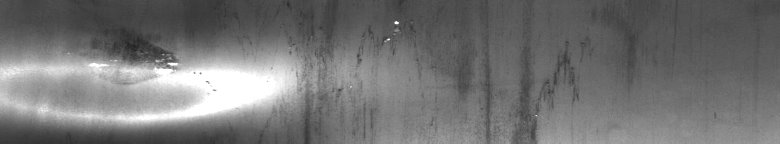ke: (38, 4, 416, 136)
